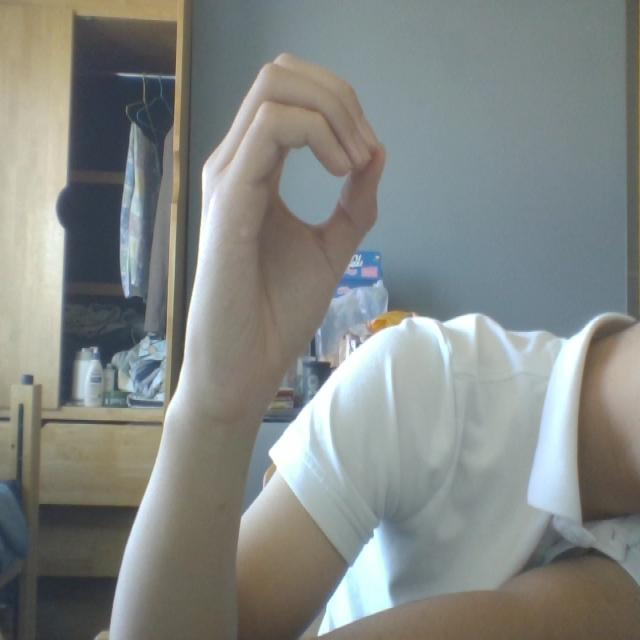O: (142, 28, 425, 409)
